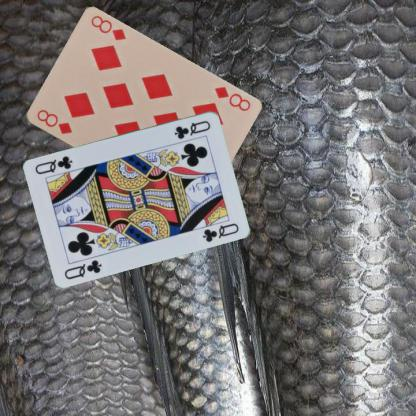8d: (33, 106, 73, 136), (211, 84, 252, 112)
Qc: (62, 257, 103, 280), (172, 118, 212, 140)
